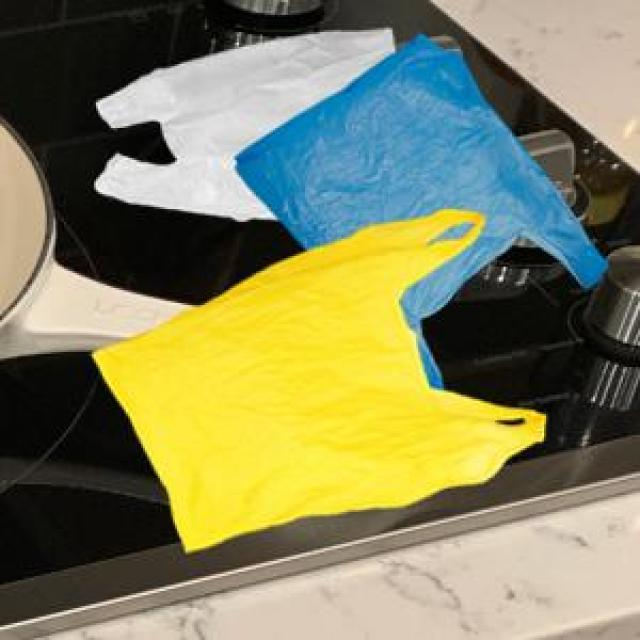plastic: (72, 20, 619, 580)
